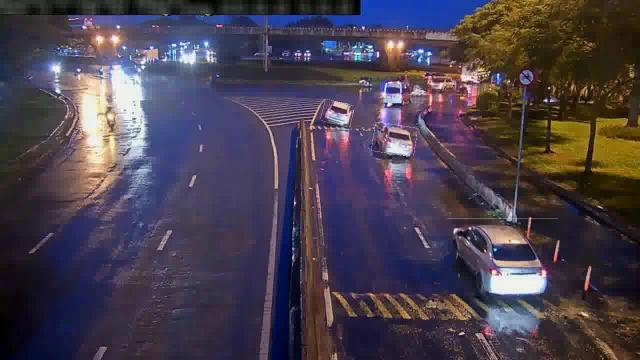Bike: (104, 106, 116, 132)
Car: (448, 219, 558, 293), (372, 124, 416, 156), (322, 102, 354, 126)
